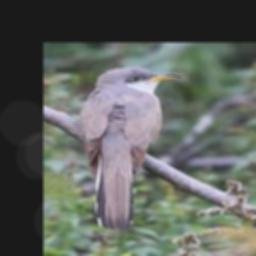Cuckoo: (78, 65, 181, 229)
